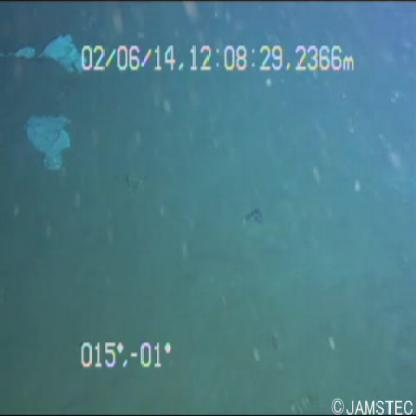Rác: (5, 22, 92, 84), (11, 102, 83, 172)
